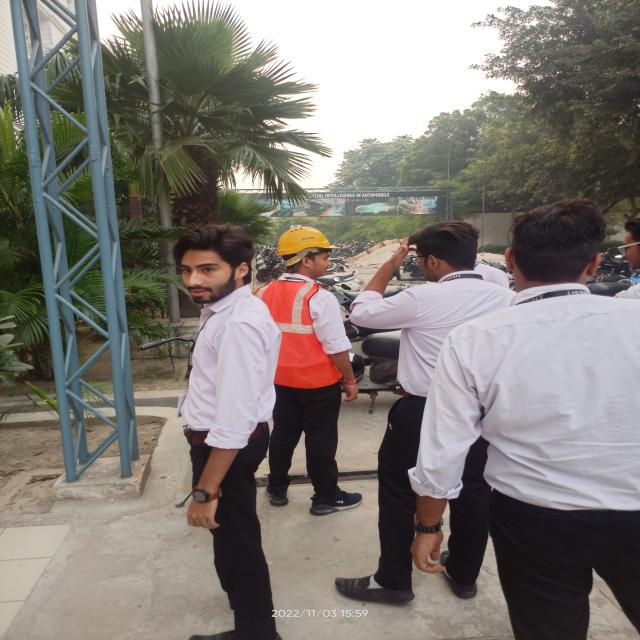safe: (263, 220, 365, 518)
unsafe: (475, 204, 640, 576), (367, 225, 498, 581), (170, 227, 285, 577)
